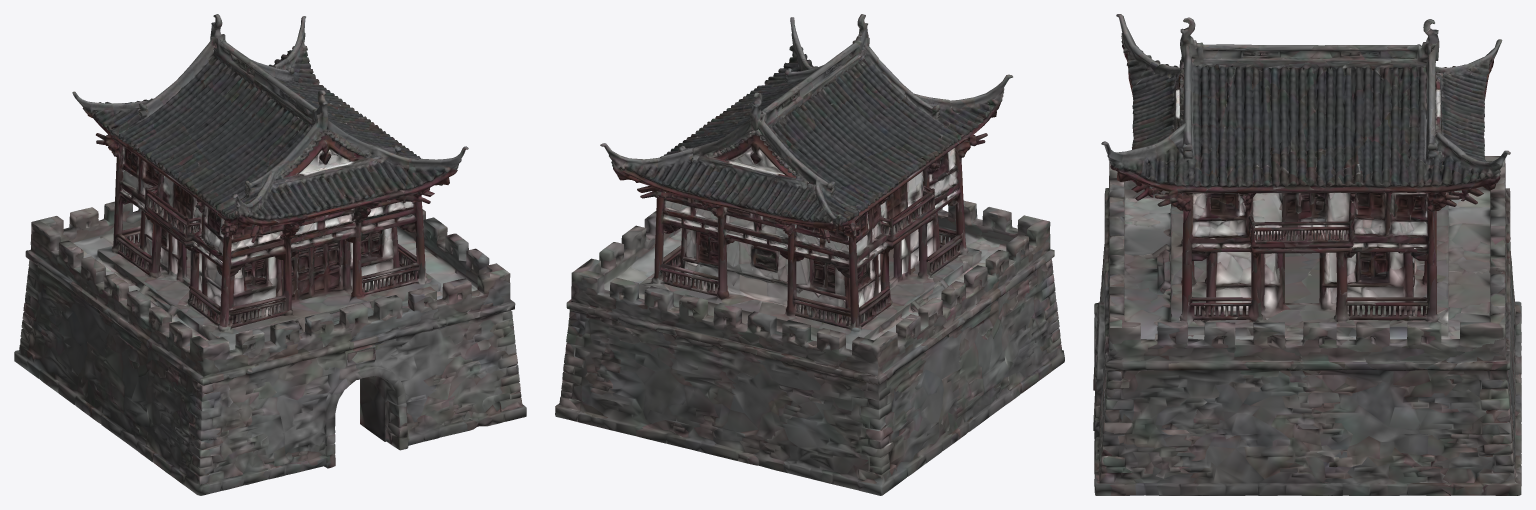
Rendered from xi_chengmen.glb.
The picture shows the model from 3 angles, left to right: view 1: azimuth 30°, elevation 25°; view 2: azimuth 150°, elevation 25°; view 3: azimuth 270°, elevation 25°; orthographic projection. The views are drawn at different scales.
Size of the model in its own units: 1.9 by 1.87 by 1.87.
Materials: 1 (1 with a texture image).
